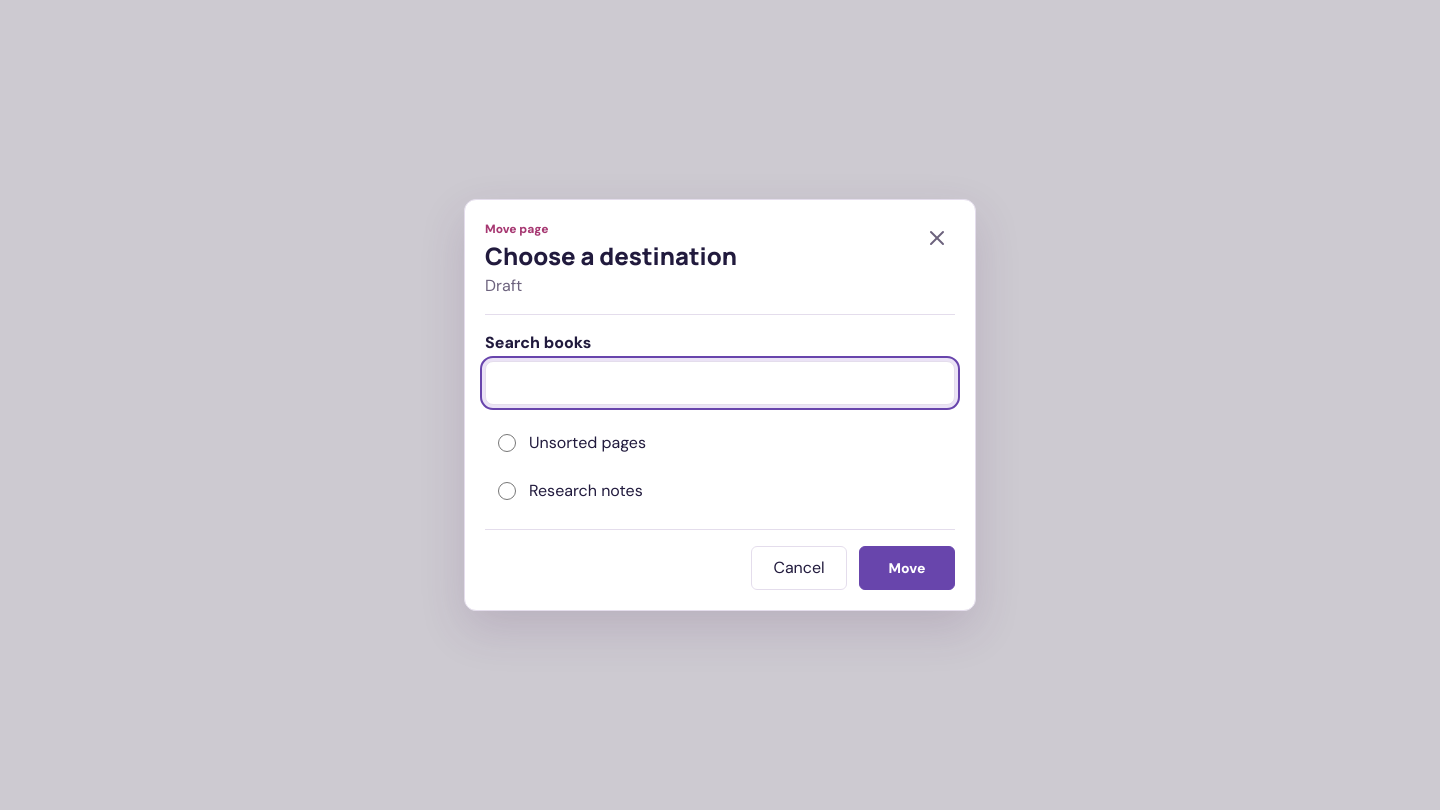
it: MovePageDialog › clears a destination when filtering hides it
The image size is (1440, 810).
Click the radio button labelled "Research notes".
click(507, 491)  # box [498,482,516,500]
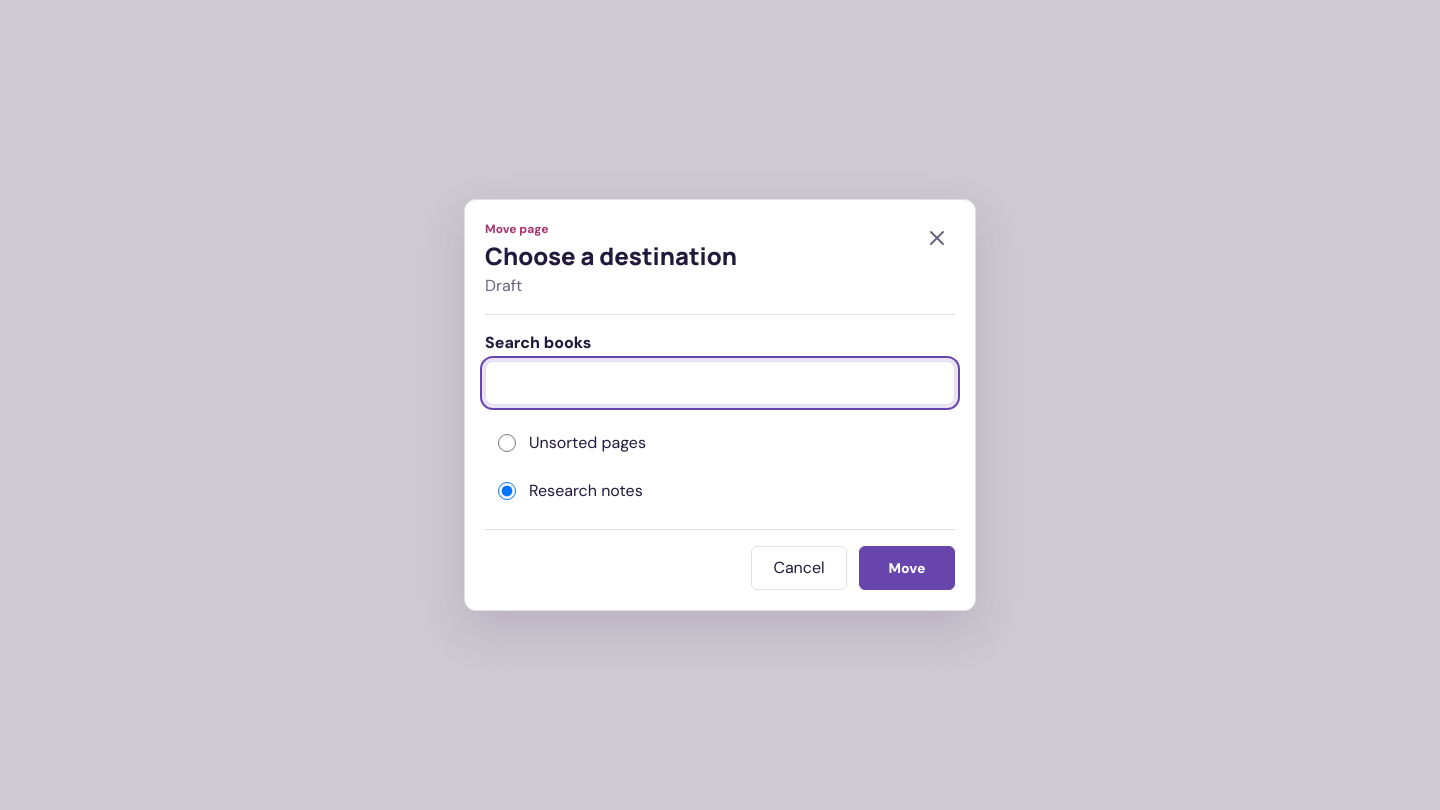
Check: the button with aria-label "Move page" is enabled, box [859,546,955,590]
Type "missing" into the search field labelled "Search books".
click(720, 383); type("missing")  # box [485,361,955,405]
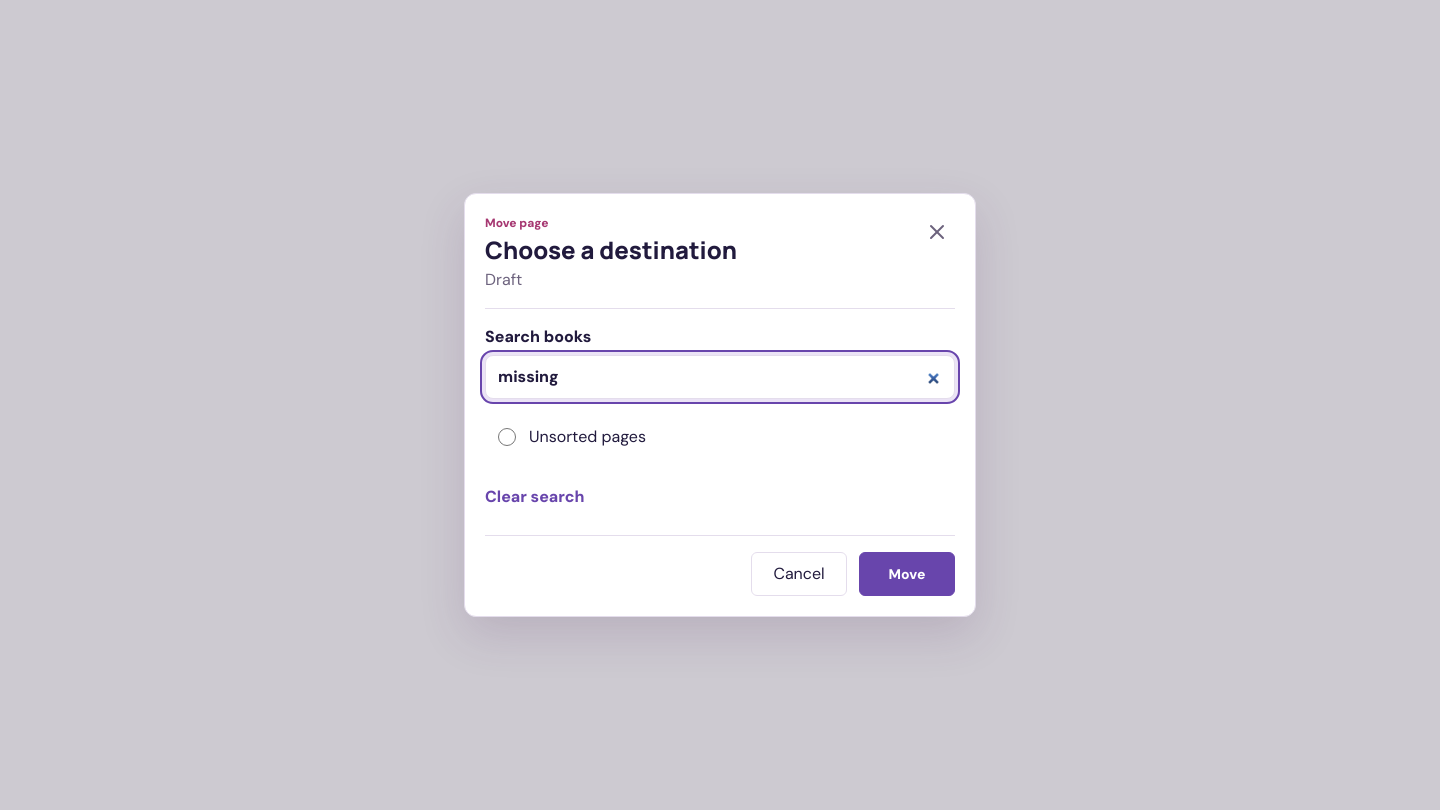
Check: the button with aria-label "Move page" is disabled, box [859,552,955,596]
